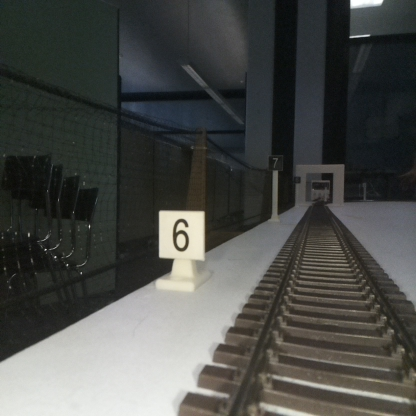black-info-7: (268, 154, 282, 219)
white-stop-6: (159, 210, 203, 288)
